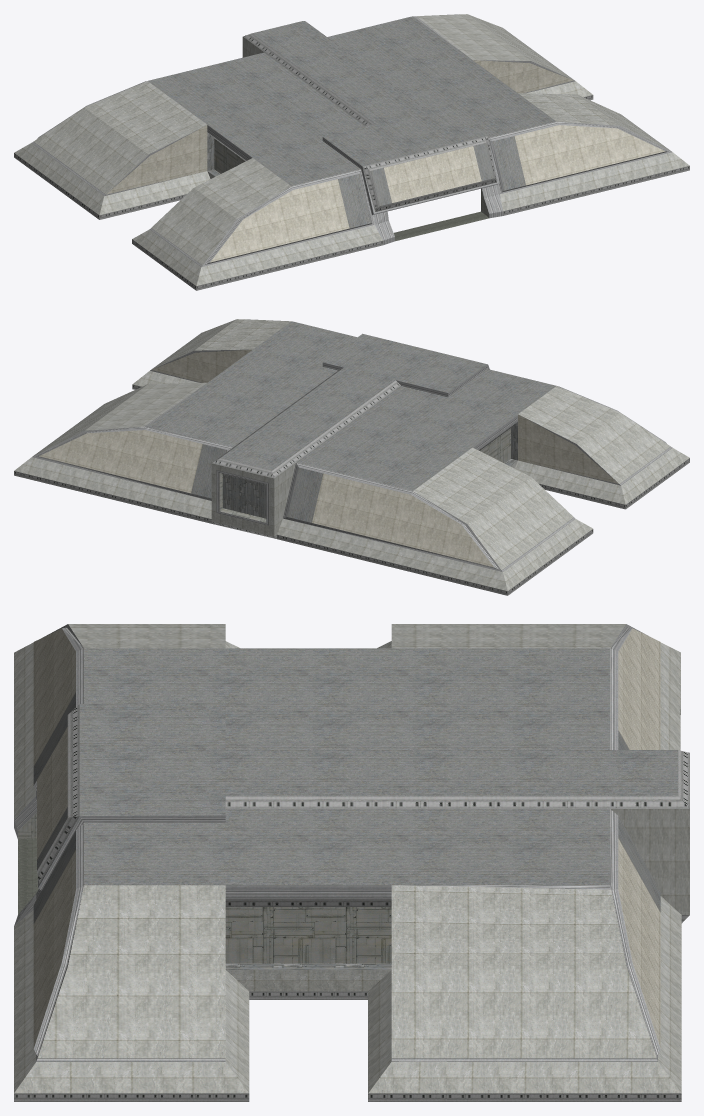
The model's file is mun_corl_cloning_s01_r0_mesh_l1.fbx.
The picture shows the model from 3 angles, top to bottom: view 1: azimuth 30°, elevation 25°; view 2: azimuth 150°, elevation 25°; view 3: azimuth 270°, elevation 25°; orthographic projection. The views are drawn at different scales.
Parts seen in each view (by area): view 1: mesh_node; view 2: mesh_node; view 3: mesh_node.
Part boxes in pixels (box(x1,y1,x2,y2)): mesh_node: box(14, 14, 689, 290); mesh_node: box(14, 319, 689, 595); mesh_node: box(14, 624, 689, 1101).
Size of the model in its own units: 62.92 by 8.14 by 40.77.
